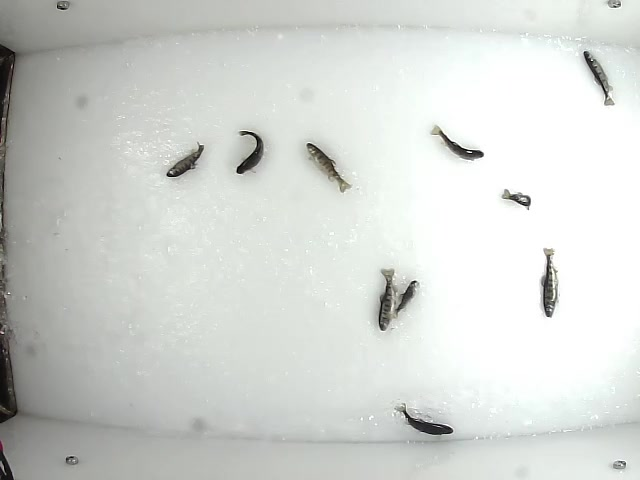fish: (302, 141, 353, 195), (393, 401, 458, 437), (428, 124, 486, 161), (582, 48, 617, 108), (161, 141, 207, 180), (538, 244, 560, 321), (233, 130, 265, 177), (375, 266, 397, 333), (389, 278, 420, 321), (499, 188, 542, 212)
